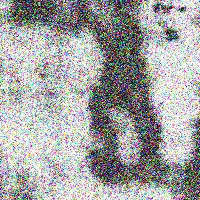patches: (67, 5, 169, 192), (171, 137, 199, 200), (4, 0, 65, 28)
